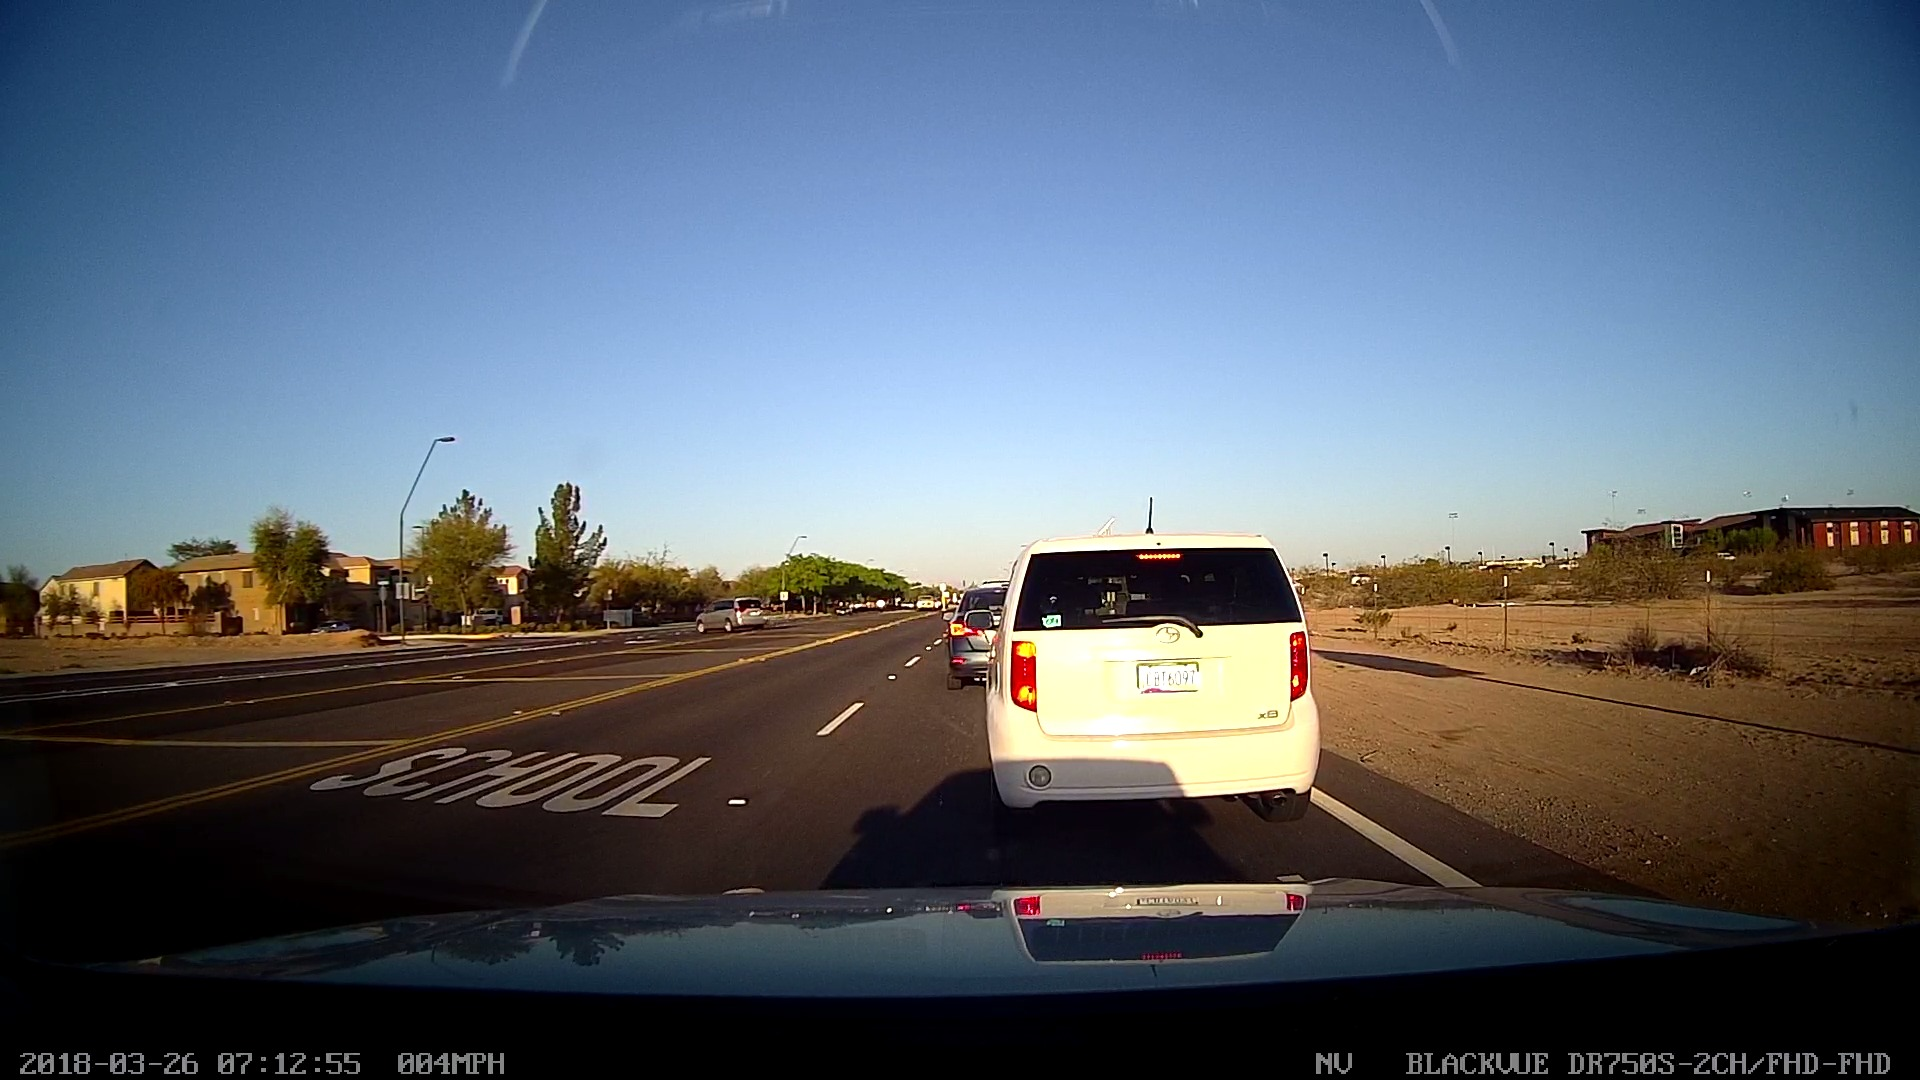plate: (1126, 652, 1208, 698)
vehicle: (974, 528, 1325, 825), (938, 576, 1015, 689), (689, 595, 769, 639)
